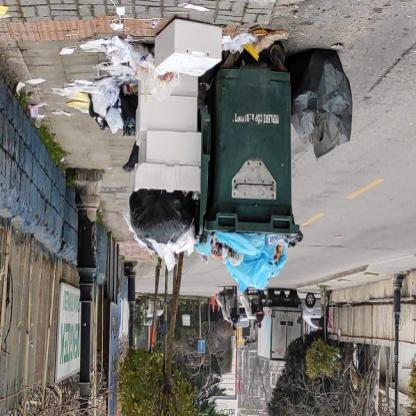Garbage: (55, 29, 132, 149), (290, 43, 352, 166), (203, 234, 297, 292), (122, 190, 193, 266), (221, 28, 267, 61)
